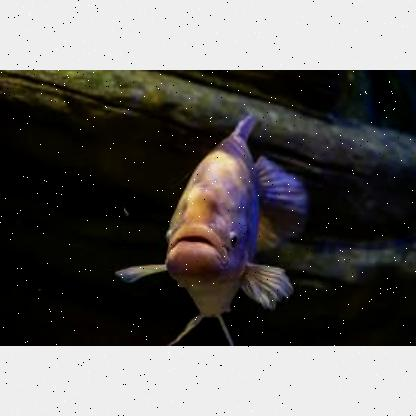gurame: (119, 113, 311, 344)
